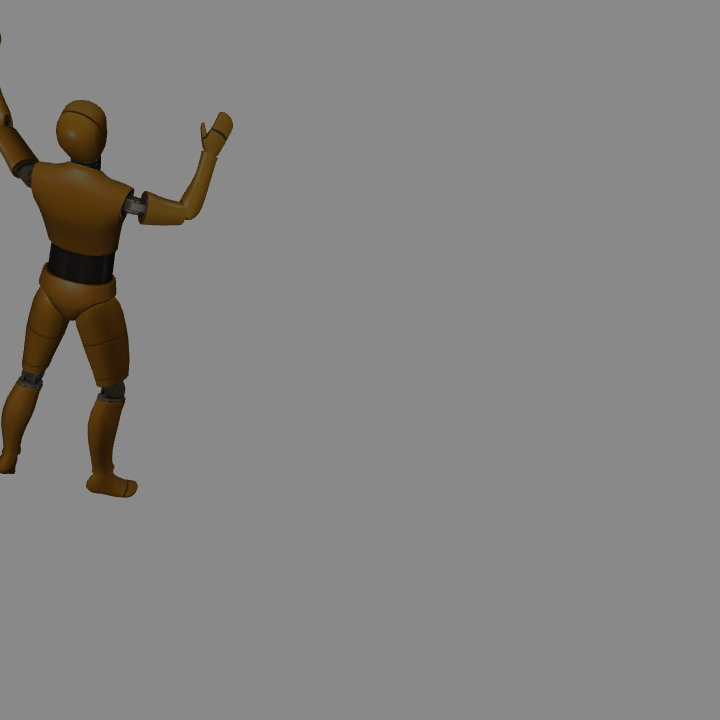victim: (33, 102, 138, 495)
